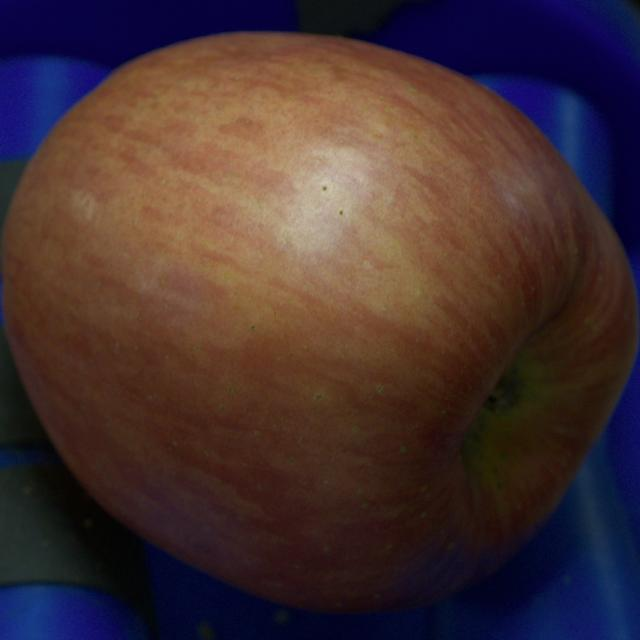apple: (2, 32, 638, 612)
